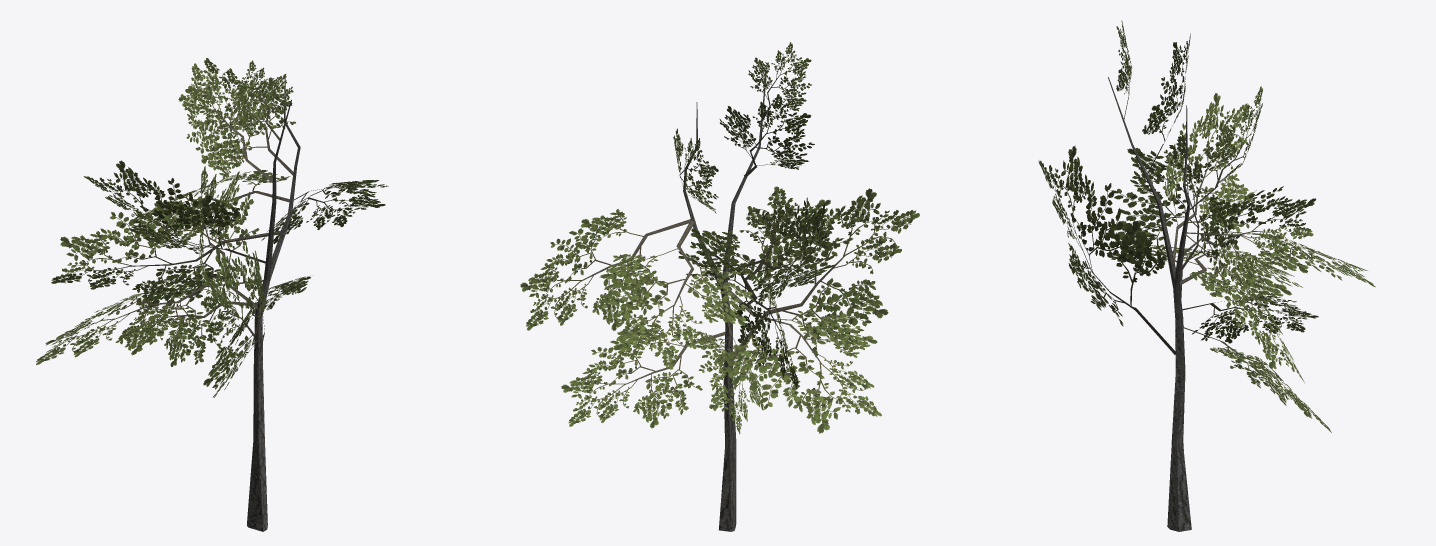
File: tree_1.gltf
3 views of the same model, side by side, from view 1: azimuth 30°, elevation 25°; view 2: azimuth 150°, elevation 25°; view 3: azimuth 270°, elevation 25° (orthographic). The views are drawn at different scales.
Parts seen in each view (by area): view 1: Object_20, Object_18; view 2: Object_20, Object_18; view 3: Object_20, Object_18.
Part boxes in pixels (x1,y1,x2,y2): Object_20: [36, 58, 388, 397]; Object_18: [247, 78, 300, 531]; Object_20: [520, 42, 919, 434]; Object_18: [683, 70, 766, 531]; Object_20: [1038, 20, 1375, 432]; Object_18: [1108, 77, 1191, 531].
Size of the model in its own units: 8.11 by 8.74 by 6.26.
Materials: 2 (2 with a texture image).
